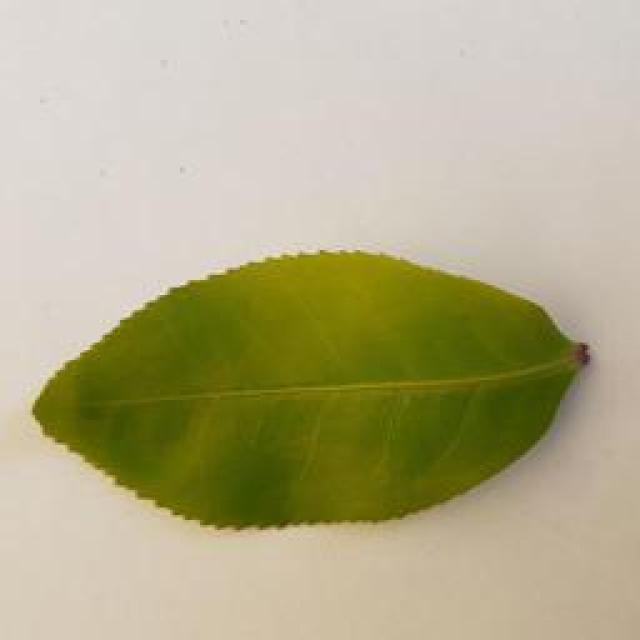Healthy: (18, 226, 640, 554)
